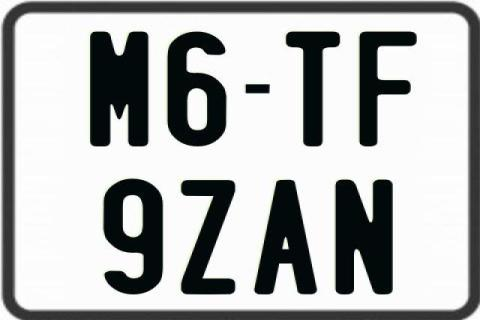0: (103, 177, 168, 295), (167, 29, 228, 149)
A: (251, 180, 315, 298)
F: (359, 29, 417, 147)
M: (90, 29, 149, 148)
N: (334, 179, 398, 297)
T: (285, 30, 340, 148)
Z: (178, 179, 232, 295)
